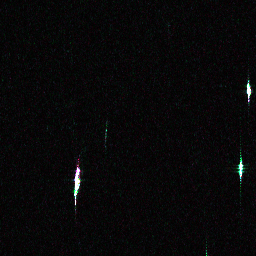ship: (70, 175, 83, 199), (244, 82, 252, 98), (237, 162, 244, 177)
